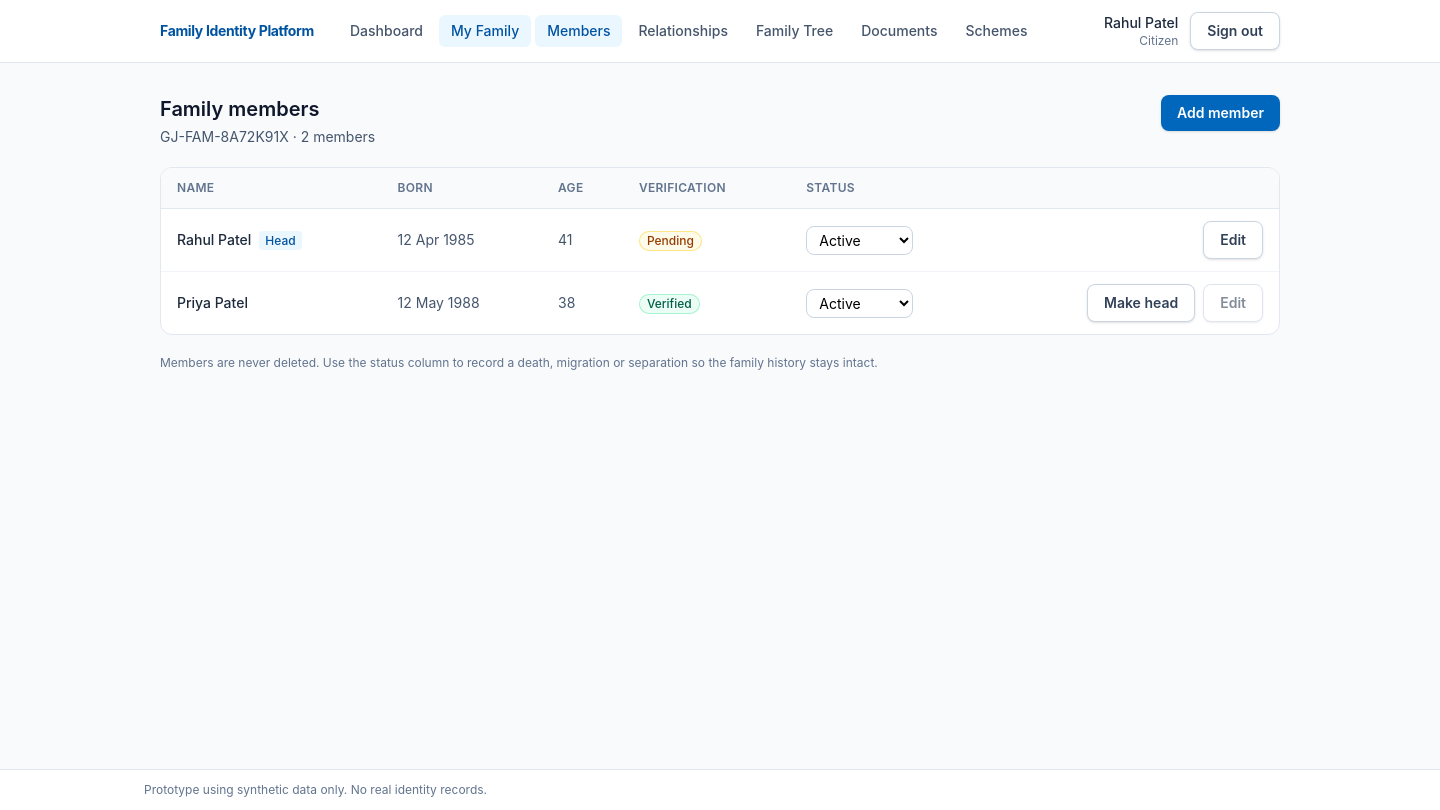
Test: FamilyMembersPage — adding › adds a member through the dialog
Expected: the text "Priya Patel" is shown, [161,272,382,334]
Click the button "Add member": click(1220, 113) [1161,95,1280,131]
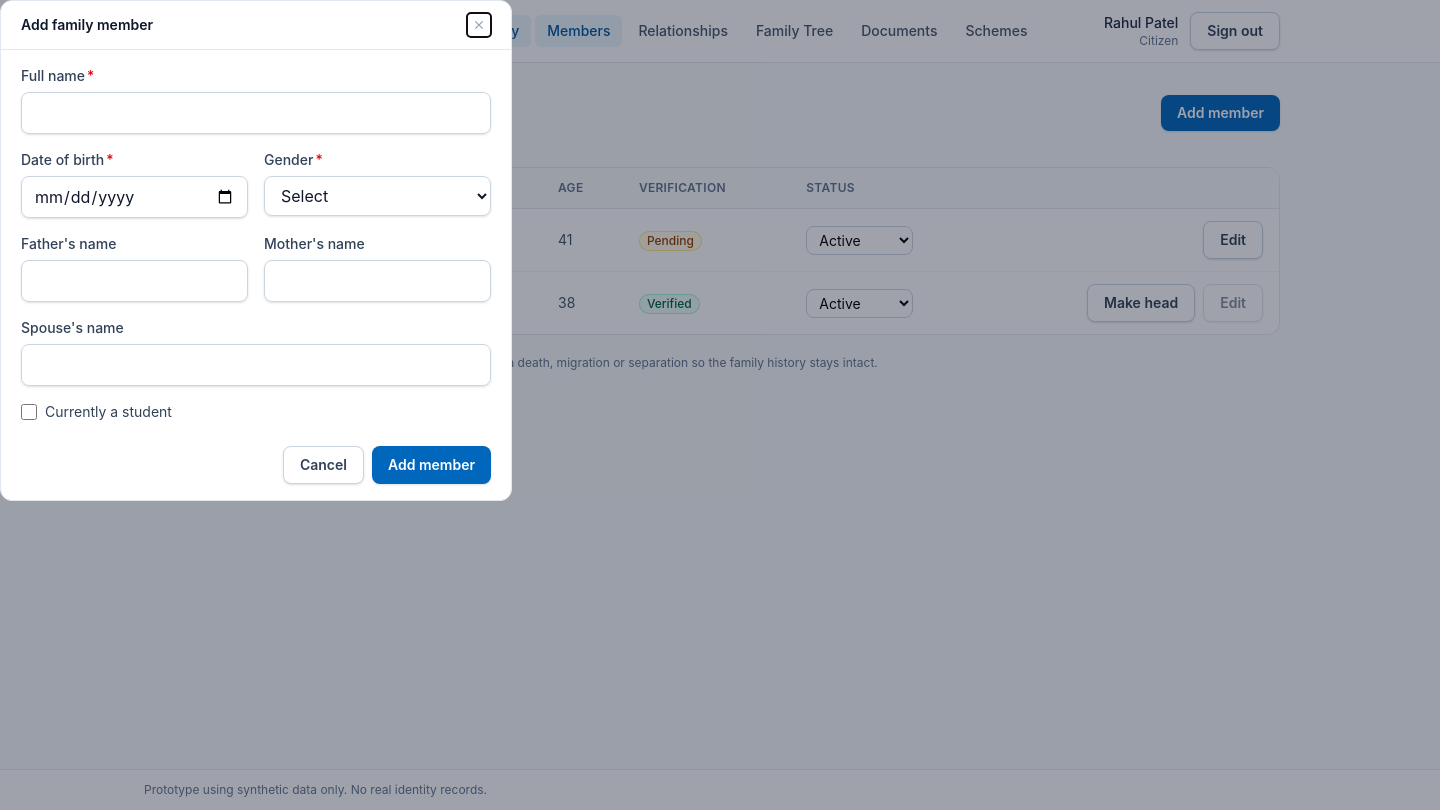
In the field labelled "Full name*": (256, 113) [21,92,491,134], type "Riya Patel"
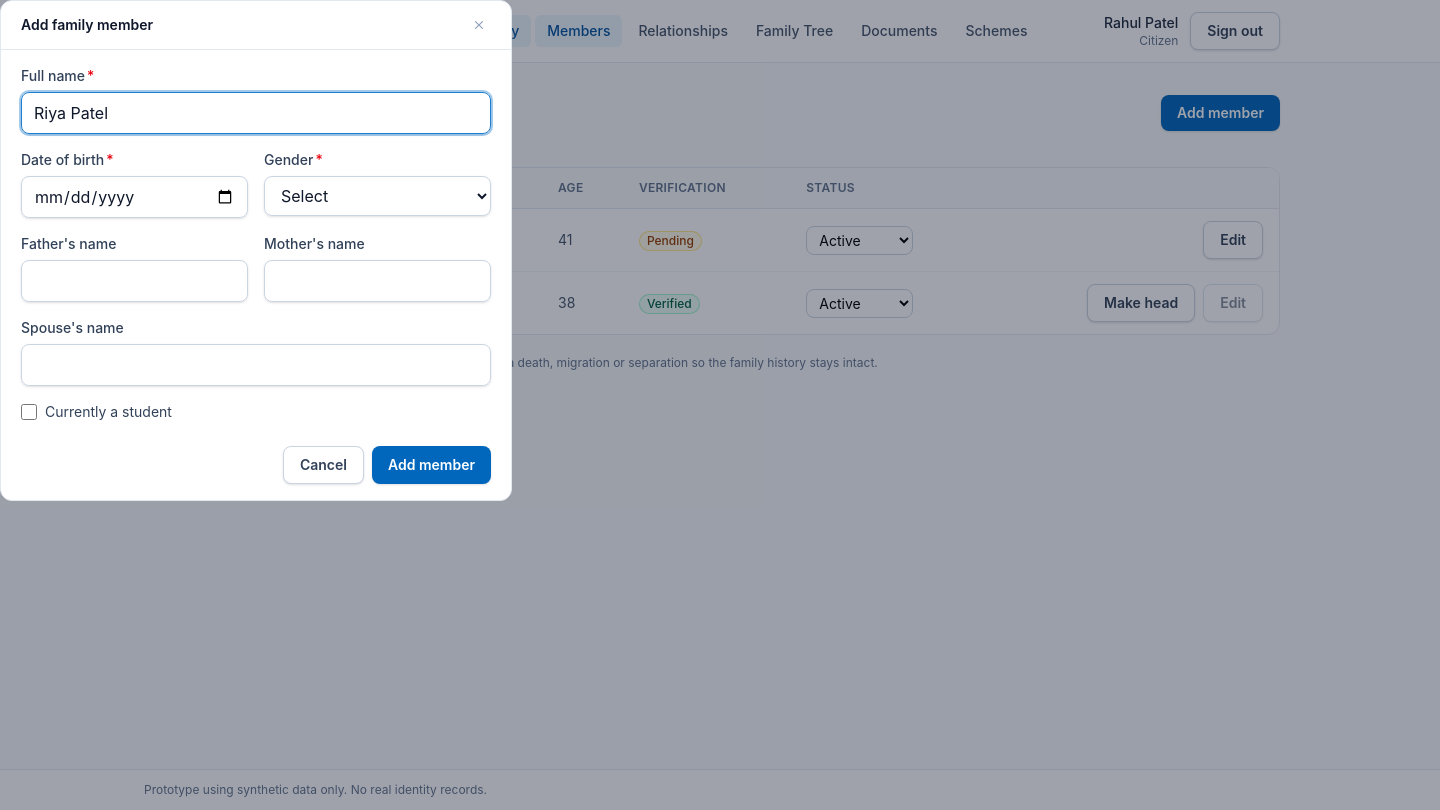
In the date field labelled "Date of birth*": (134, 197) [21,176,248,218], type "2010-02-02"
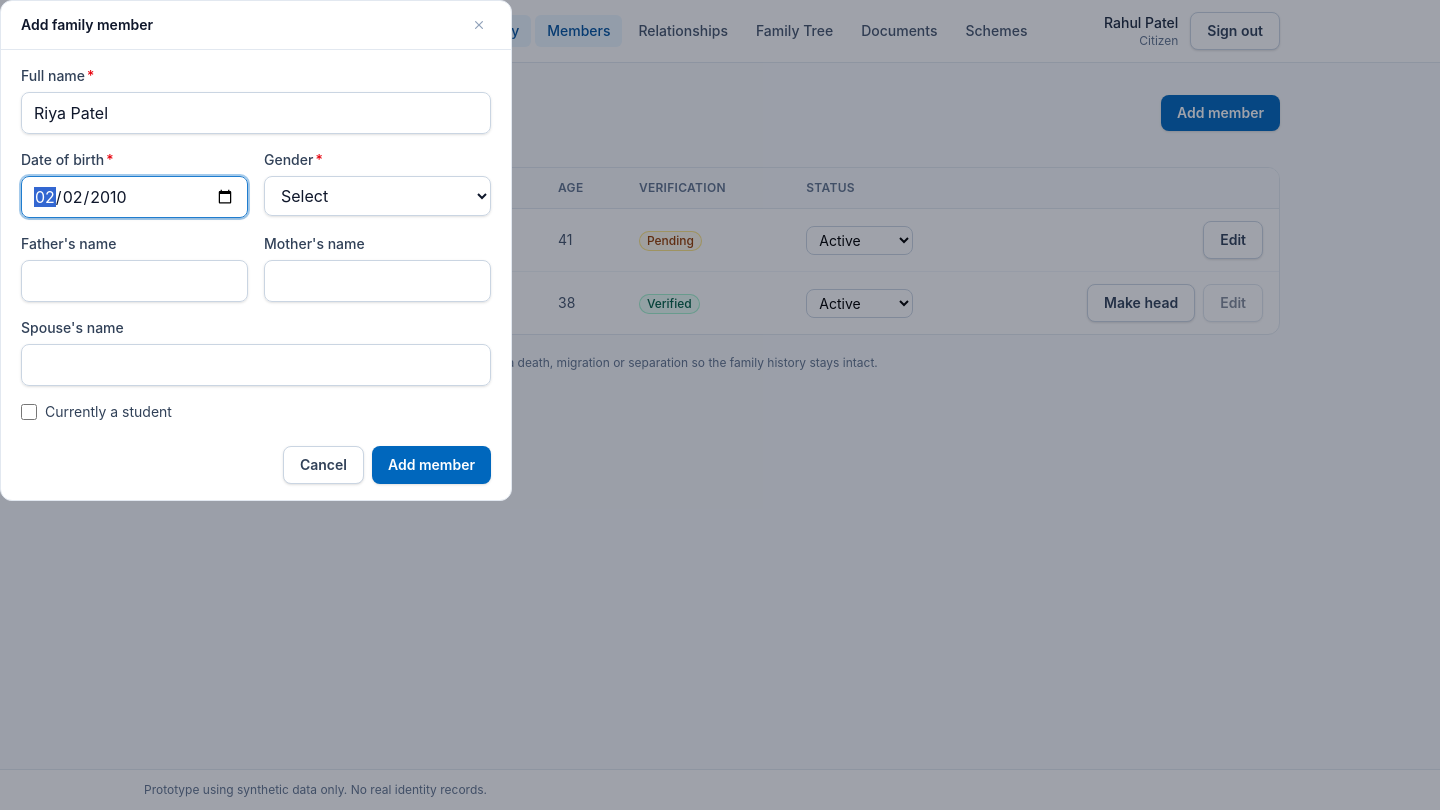
Select "Female" in the dropdown labelled "Gender*": (378, 196) [264,176,491,216]
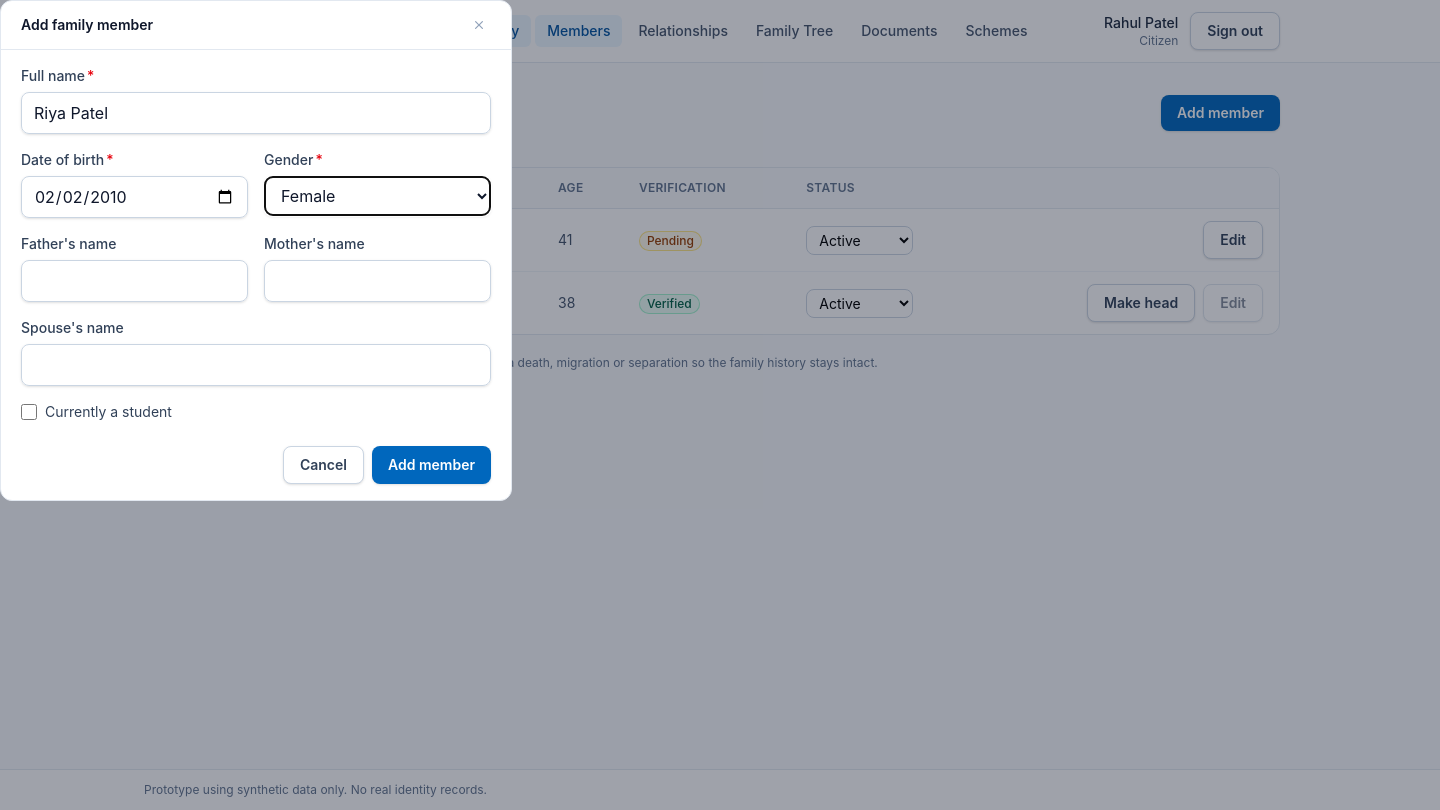
Click the button "Add member": click(432, 465) [372,446,491,484]
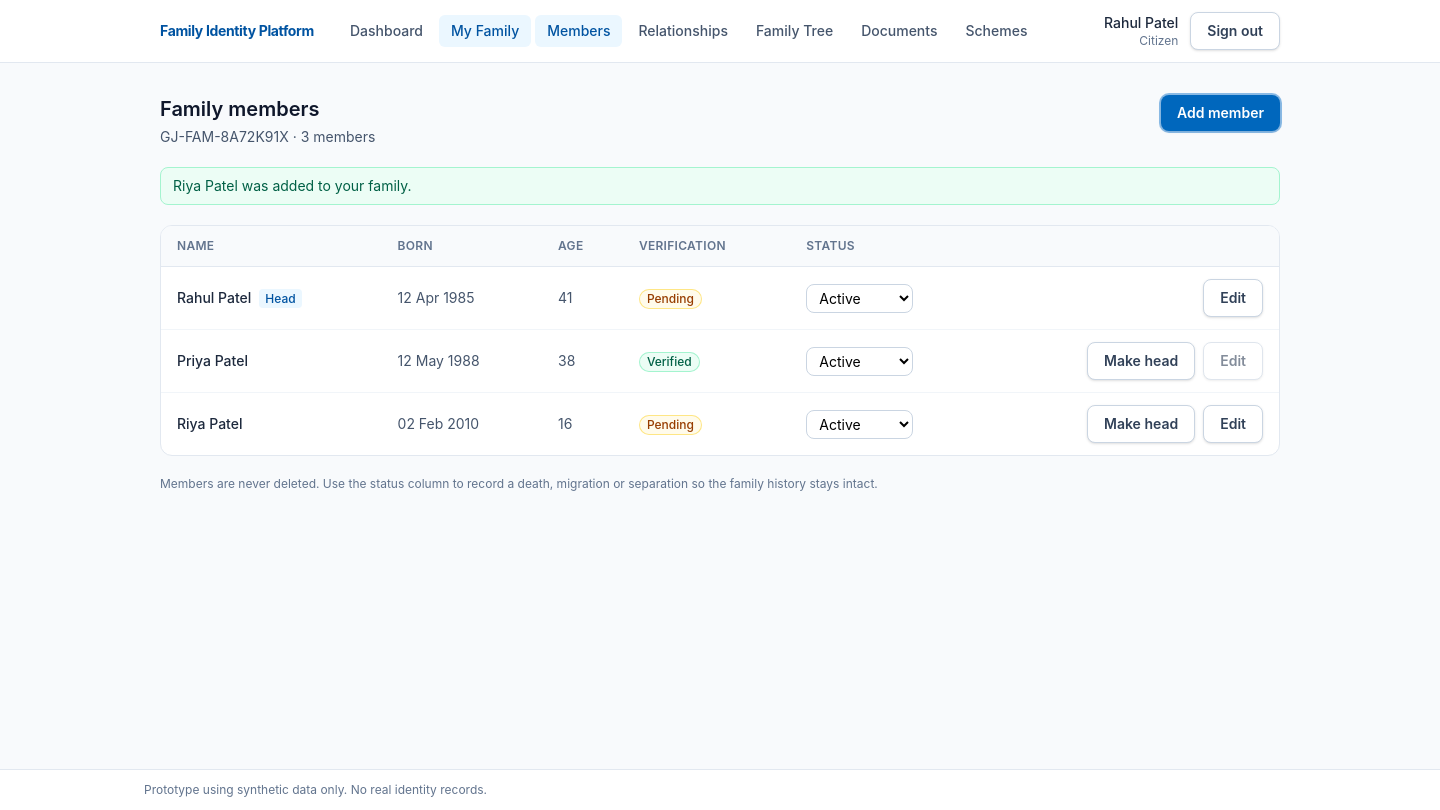
Now the text "Riya Patel was added to your family." is shown, box [173,177,412,194]
